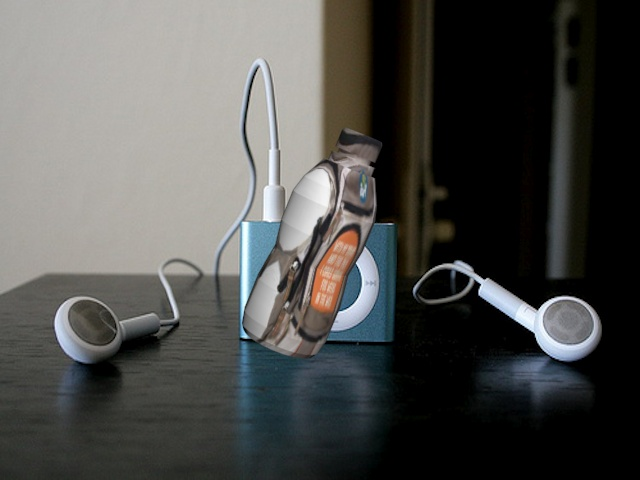bottle: (241, 121, 384, 368)
